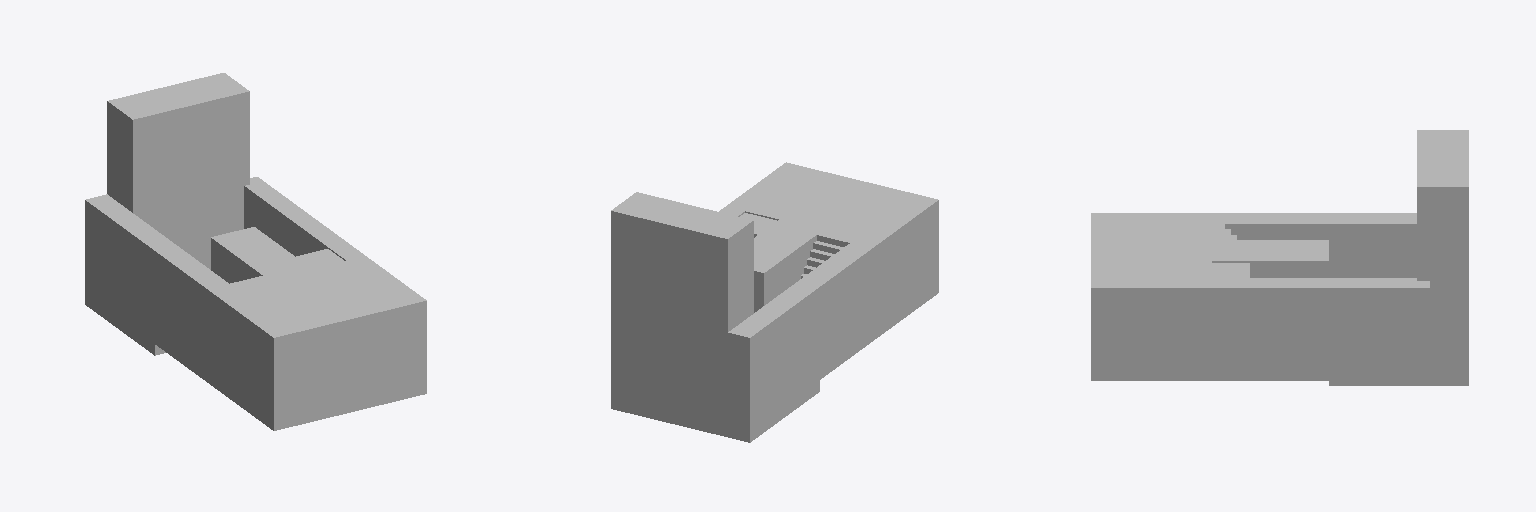
File: no_floor_end.obj
3 renders of one model, left to right at view 1: azimuth 30°, elevation 25°; view 2: azimuth 150°, elevation 25°; view 3: azimuth 270°, elevation 25°, orthographic.
Visible parts, largest first — view 1: entity0_brush7, entity0_brush5, entity0_brush0, entity0_brush2, entity0_brush3, entity0_brush6, entity0_brush1, entity0_brush4; view 2: entity0_brush0, entity0_brush5, entity0_brush7, entity0_brush2, entity0_brush6, entity0_brush1; view 3: entity0_brush3, entity0_brush7, entity0_brush0, entity0_brush5, entity0_brush6, entity0_brush2, entity0_brush1, entity0_brush4.
Part boxes in pixels (x1,y1,x2,y2): entity0_brush7: (214,257,426,430); entity0_brush5: (107,73,249,212); entity0_brush0: (85,194,235,386); entity0_brush2: (133,186,243,269); entity0_brush3: (244,177,366,260); entity0_brush6: (211,227,312,283); entity0_brush1: (85,293,165,355); entity0_brush4: (296,249,345,268); entity0_brush0: (728,238,878,430); entity0_brush5: (611,192,753,331); entity0_brush7: (726,162,938,336); entity0_brush2: (611,304,727,425); entity0_brush6: (754,220,822,312); entity0_brush1: (611,380,819,442); entity0_brush3: (1212,278,1429,380); entity0_brush7: (1091,213,1211,380); entity0_brush0: (1212,213,1416,277); entity0_brush5: (1417,130,1468,280); entity0_brush6: (1212,240,1328,277); entity0_brush2: (1430,281,1468,373); entity0_brush1: (1329,374,1468,385); entity0_brush4: (1212,263,1249,277).
Size of the model in its own units: 220 by 272 by 470.